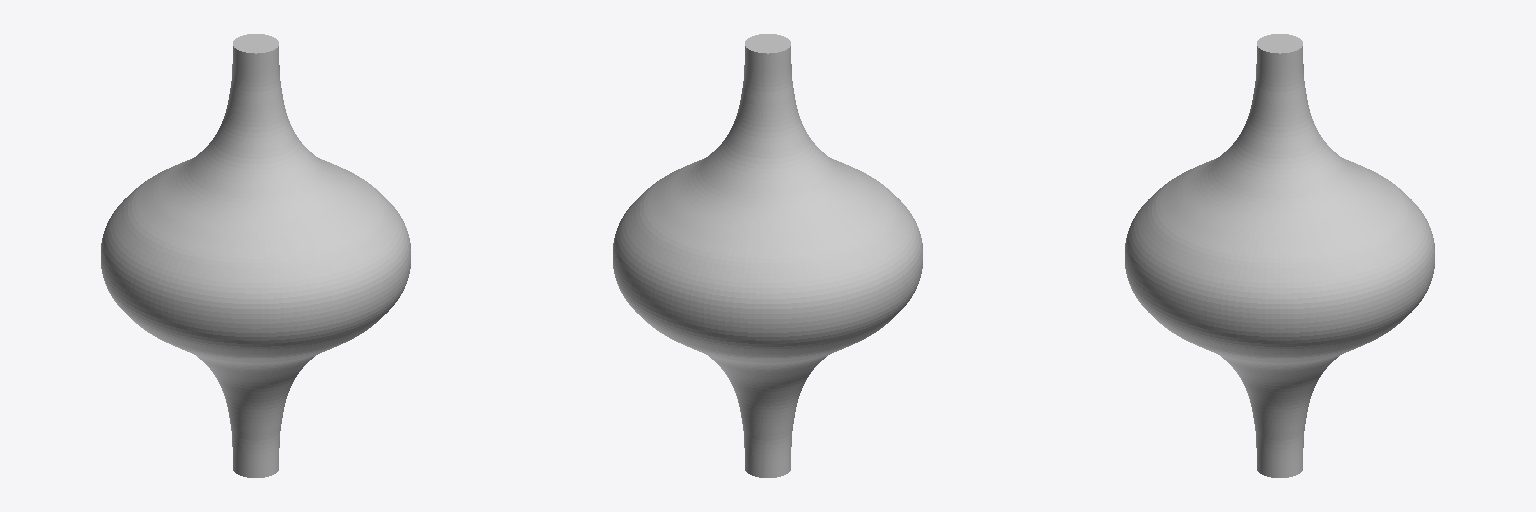
File: 190708_Ether_100type_drop4.obj
The picture shows the model from 3 angles: view 1: azimuth 30°, elevation 25°; view 2: azimuth 150°, elevation 25°; view 3: azimuth 270°, elevation 25°; orthographic projection.
Parts seen in each view (by area): view 1: object_1; view 2: object_1; view 3: object_1.
Boxes of the visible parts, x1=… form: object_1: x1=101, y1=34, x2=410, y2=477; object_1: x1=613, y1=34, x2=922, y2=477; object_1: x1=1125, y1=34, x2=1434, y2=477.
Size of the model in its own units: 66.35 by 100 by 66.35.